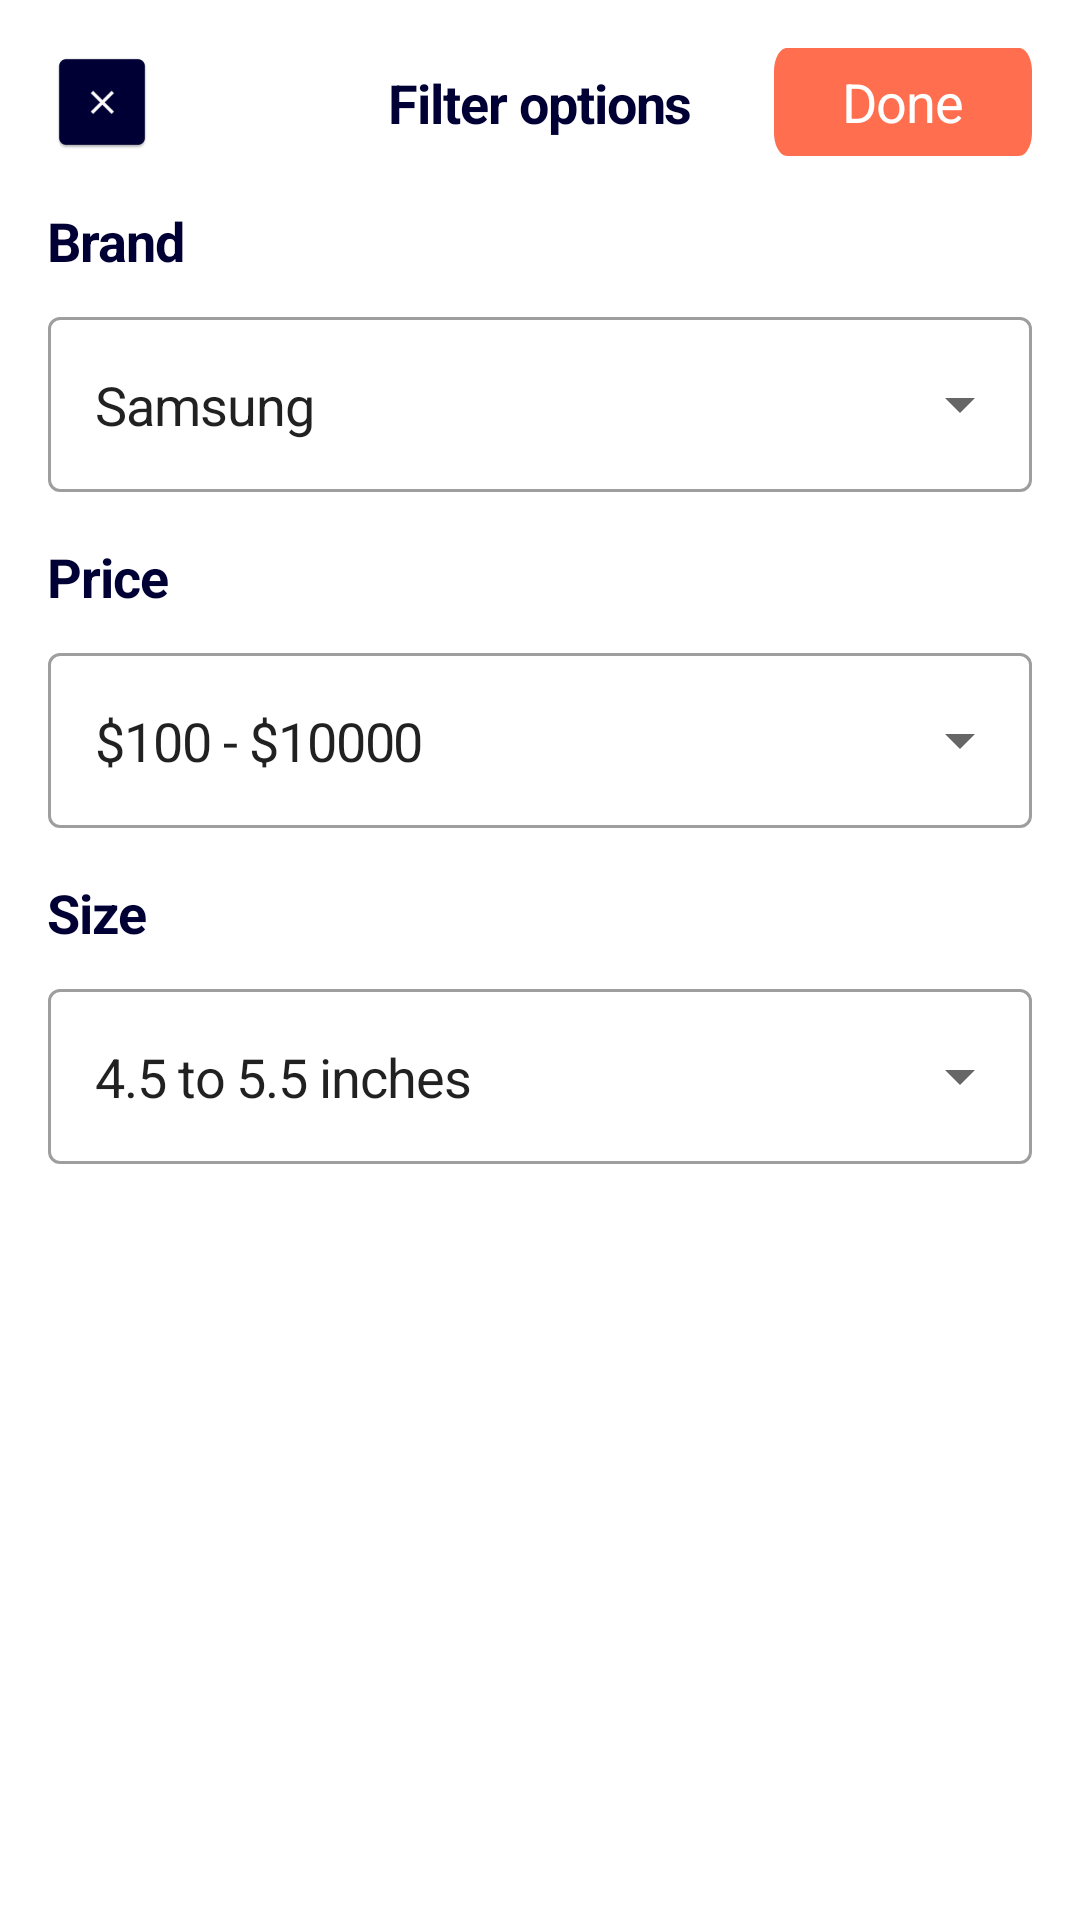

Screen size 1080w x 1920h. Icon name, then its box in pixels as (x1, y1, x2, y2):
close: (58, 59, 146, 147)
